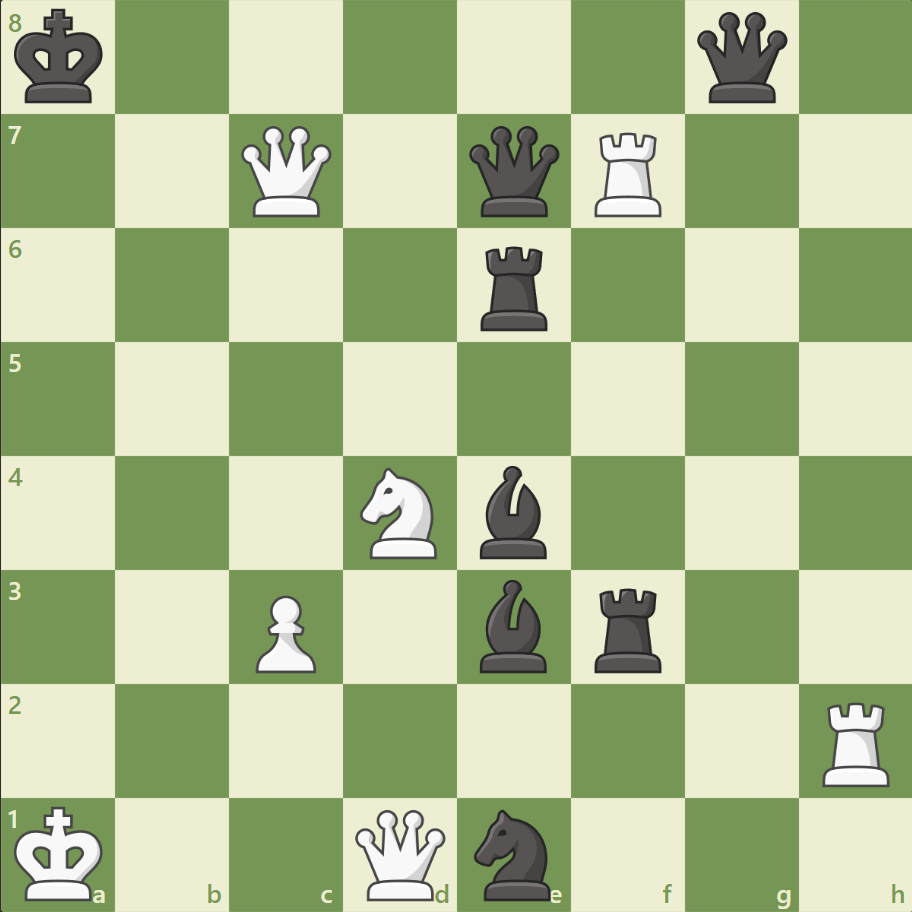K: (11, 798, 111, 906)
N: (351, 461, 449, 564)
P: (247, 586, 322, 677)
Q: (237, 122, 336, 222), (351, 804, 450, 903)
R: (587, 125, 670, 222), (814, 693, 897, 790)
b: (471, 460, 555, 563), (471, 574, 555, 676)
k: (11, 4, 111, 112)
n: (465, 802, 562, 904)
q: (464, 122, 563, 222), (691, 9, 790, 108)
r: (473, 239, 556, 336), (587, 579, 670, 676)
